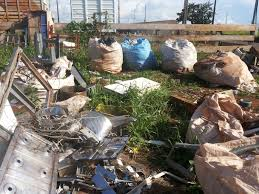rubble: (1, 57, 161, 192)
